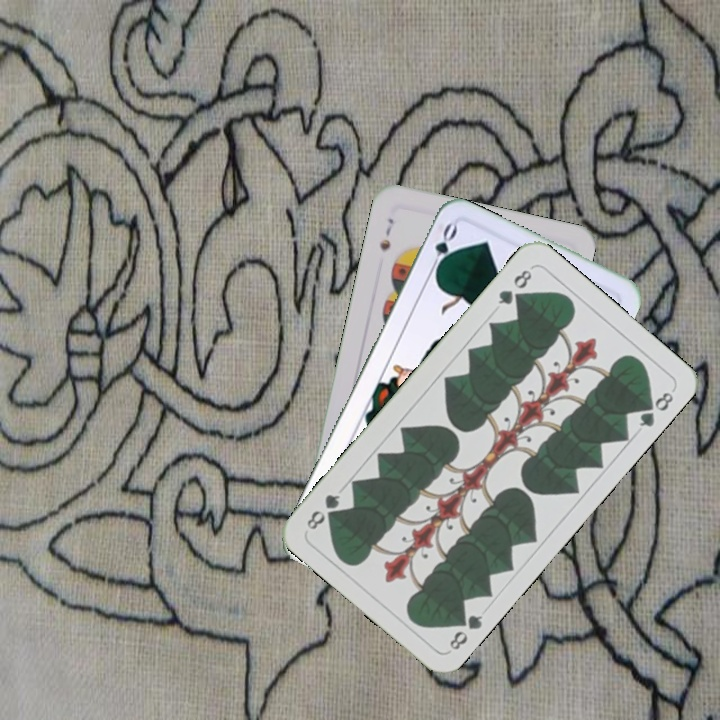G8: (445, 608, 486, 653), (494, 265, 535, 308)
GO: (425, 219, 461, 278)
S7: (375, 214, 397, 254)
